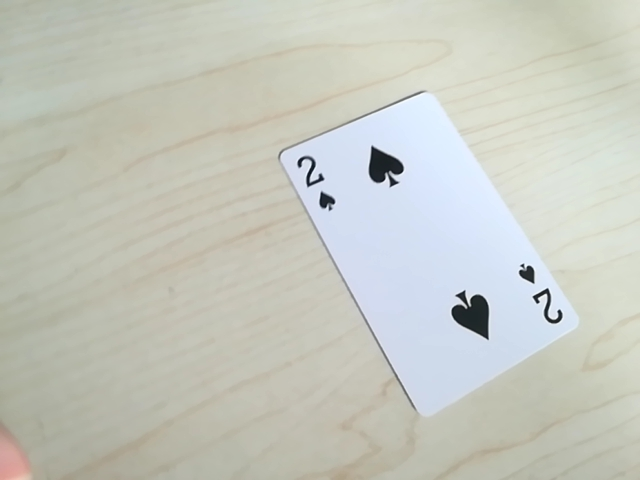ht 2: (288, 143, 340, 215), (517, 256, 560, 336)
